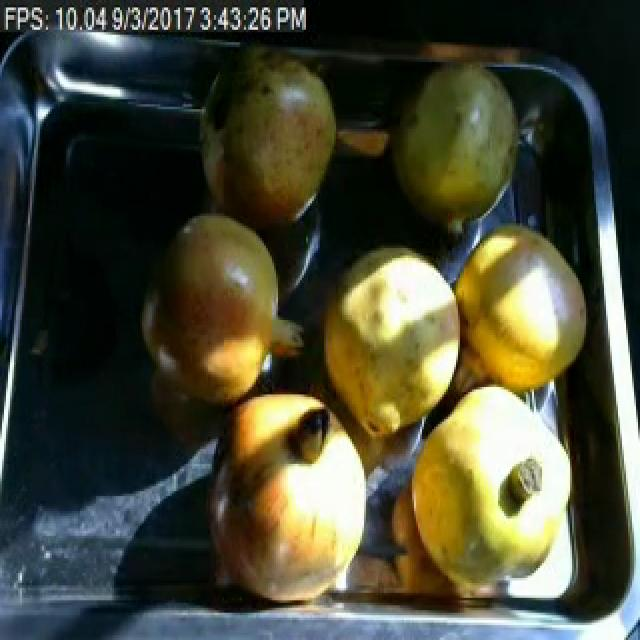fruit: (192, 372, 384, 608), (402, 367, 578, 605), (302, 233, 480, 459), (134, 201, 316, 419), (184, 40, 344, 243), (440, 211, 594, 417), (386, 57, 532, 246)
